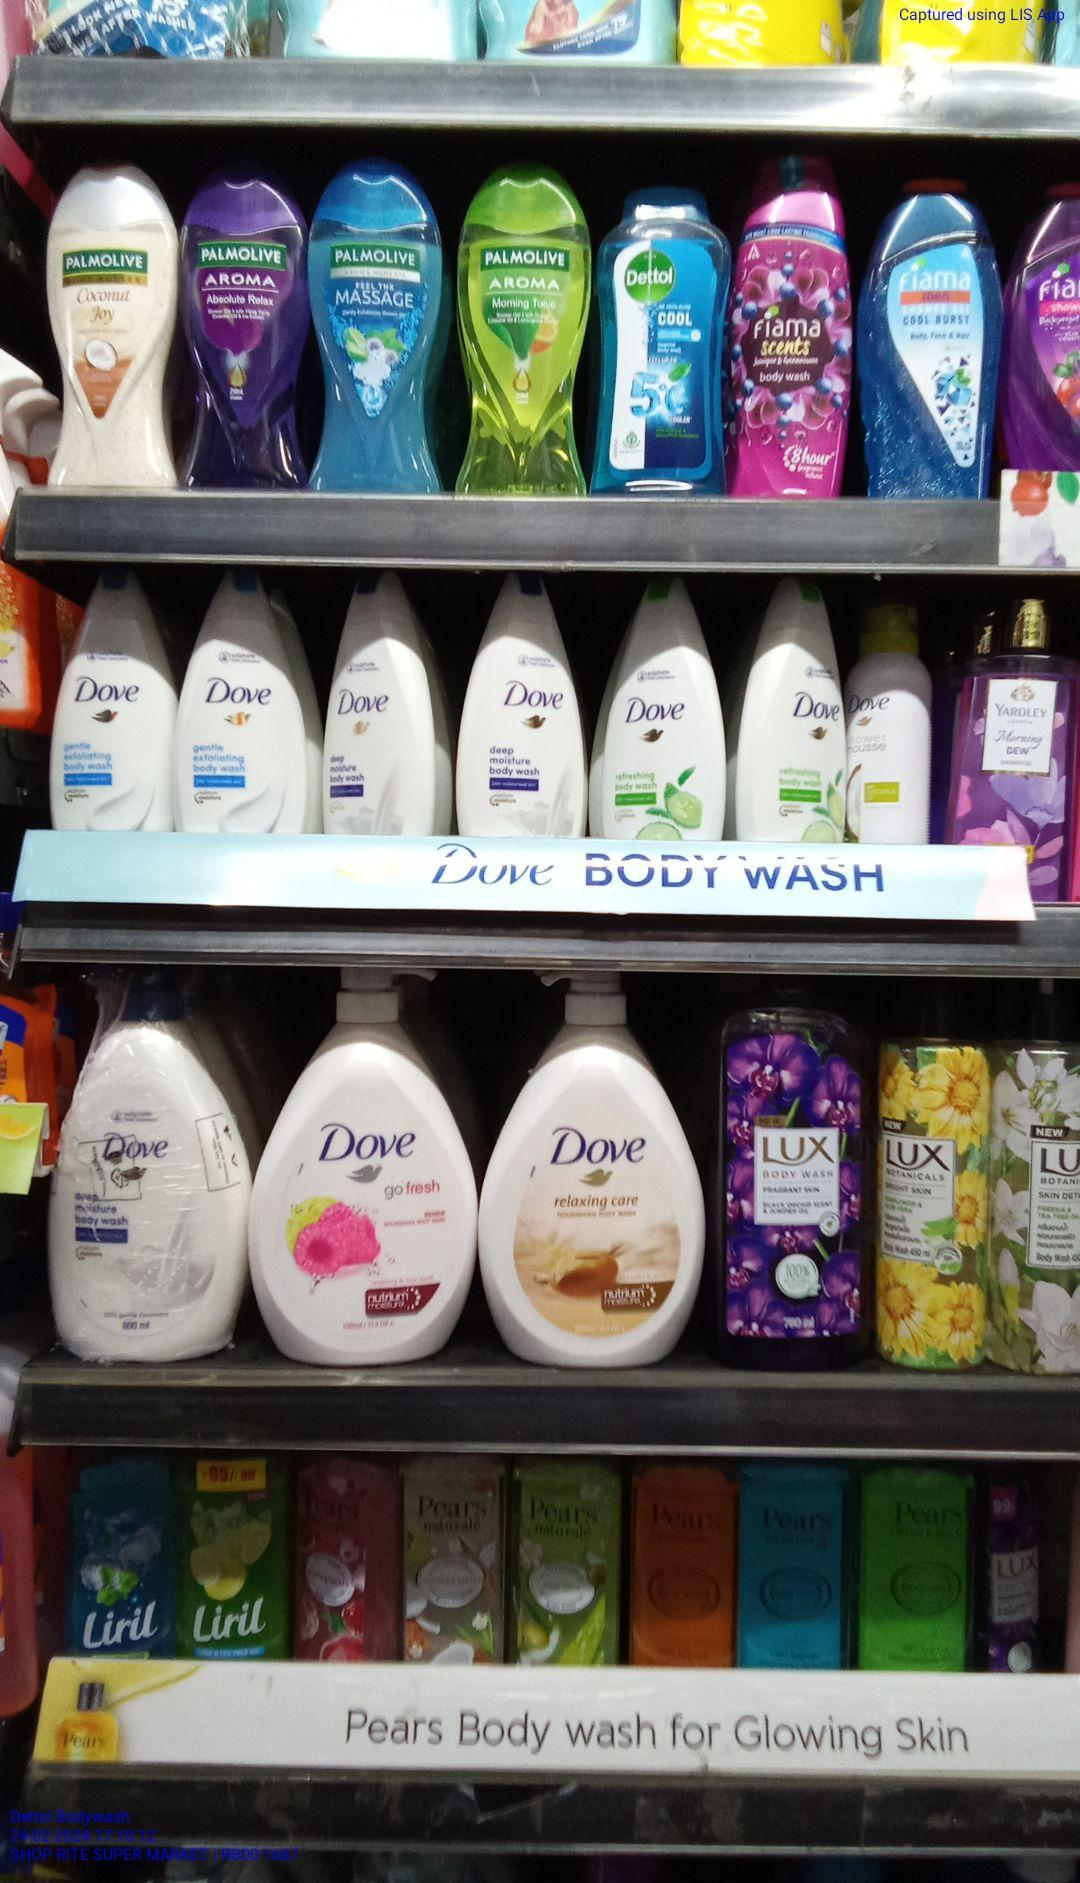Dettol_Bodywash_Cool: (600, 184, 724, 499)
Dove_Deep_Moisture_Body_Wash_250ML: (455, 570, 589, 835), (326, 568, 441, 838)
Dove_Gentle_Exfoliating_Body_Wash_250ML: (178, 569, 296, 834), (52, 570, 168, 828)
Dove_Refreshing_Body_Wash_250ML: (600, 577, 723, 842), (750, 572, 847, 839)
Liril_Cooling_Mint_Body_Wash_250ML: (78, 1446, 166, 1654)
Liril_Lime_and_Tea_Tree_Oil_Body_Wash_250ML: (172, 1447, 285, 1655)
Lux_Black_Orchid_Scent_and_Juniper_Oil_Body_Wash_245ML: (979, 1463, 1048, 1666)
Palmolive_Aroma_Moments_Feel_The_Massage_Shower_Gel_250ML: (314, 163, 444, 494)
Palmolive_Aroma_Morning_Tonic_Shower_Gel_250ML: (459, 171, 586, 499)
Palmolive_Aroma_Relax_250ML: (185, 177, 308, 491)
Palmolive_Coconut_Joy_Exfoliating_Body_Wash_250ML: (44, 169, 176, 490)
Pears_Naturale_Aloe_Vera_Body_Wash_250ML: (510, 1455, 620, 1664)
Pears_Pure_Glycerin_and_Lemon_Flower_Extracts_Body_Wash_250ML: (861, 1461, 960, 1668)
Pears_Pure_Glycerin_and_Mint_Extracts_Body_Wash_250ML: (737, 1461, 854, 1670)
